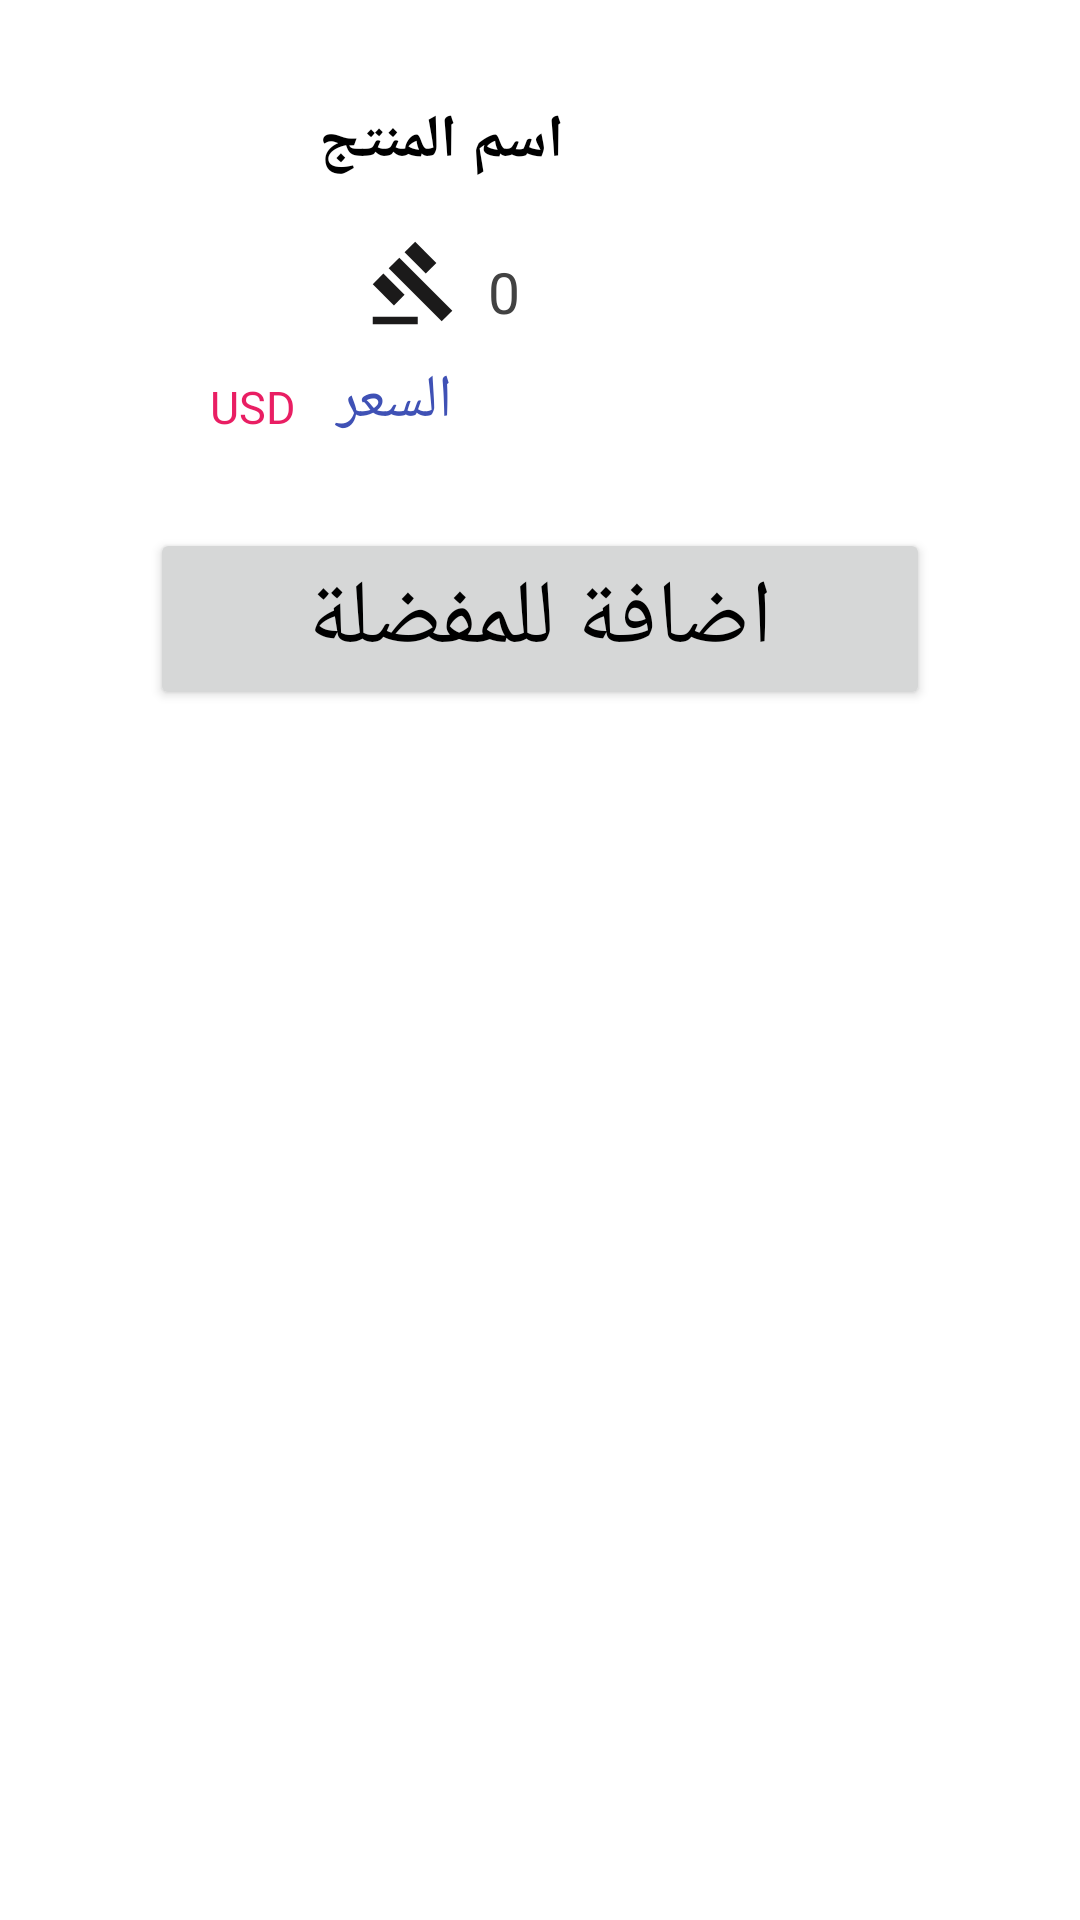

Icons on this 1080px×1920px Android screen, each with the point to tap as [x,y]:
auc: [412,283]
